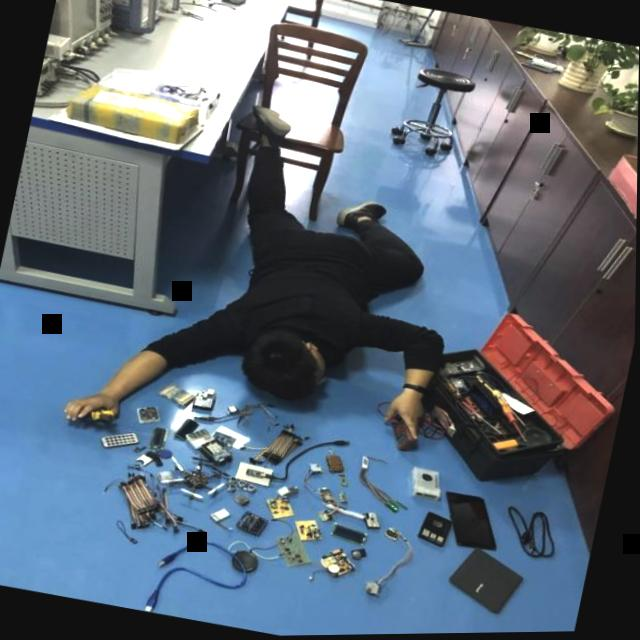Fall-Detected: (54, 70, 517, 487)
